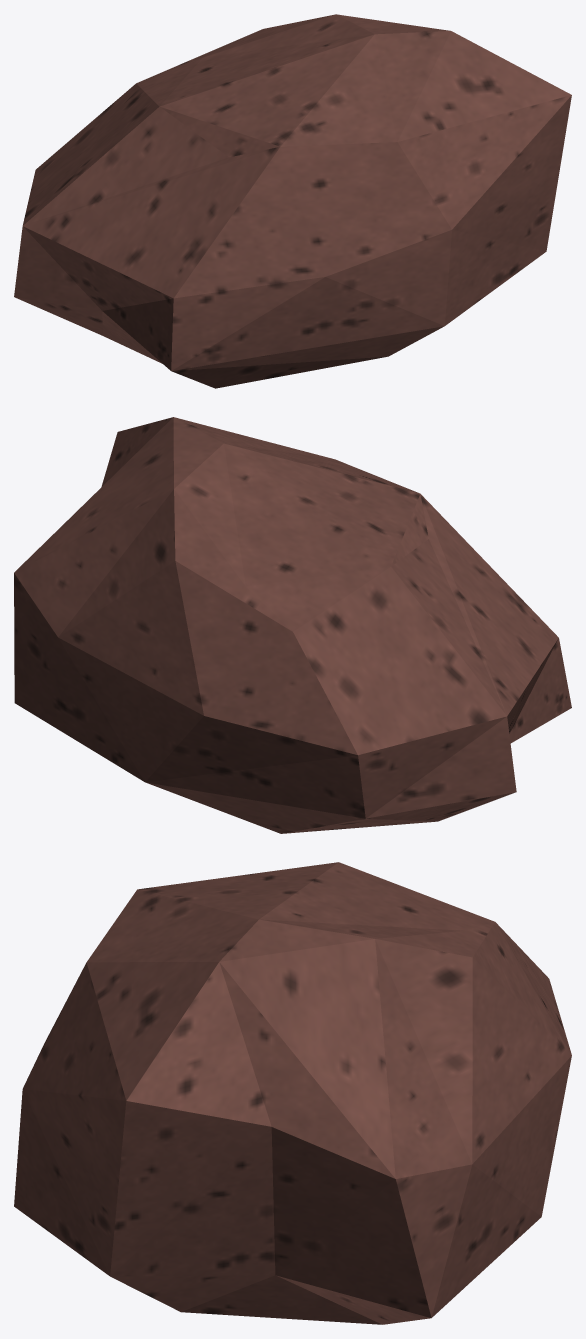
Rendered from volcanic_scoria_bomb.glb.
3 renders of one model, top to bottom at view 1: azimuth 30°, elevation 25°; view 2: azimuth 150°, elevation 25°; view 3: azimuth 270°, elevation 25°, orthographic. The views are drawn at different scales.
Visible parts, largest first — view 1: volcanic_scoria_bomb; view 2: volcanic_scoria_bomb; view 3: volcanic_scoria_bomb.
Part boxes in pixels (bbox=[...]): volcanic_scoria_bomb: bbox=[14, 14, 571, 388]; volcanic_scoria_bomb: bbox=[14, 417, 571, 833]; volcanic_scoria_bomb: bbox=[14, 862, 571, 1324].
Size of the model in its own units: 1.1 by 0.61 by 0.84.
1 material, 1 textured.
